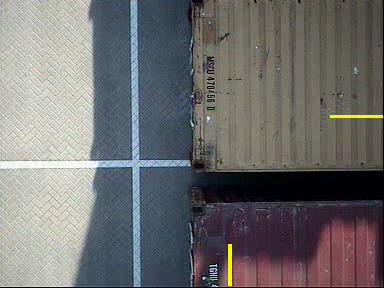groundmarker_2: (57, 131, 127, 192)
